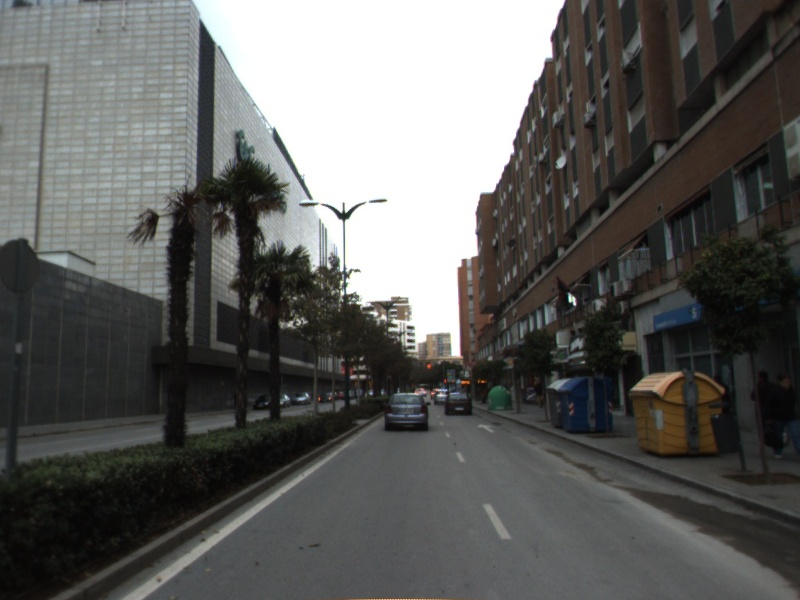STRAIGHT: (475, 422, 497, 434)
